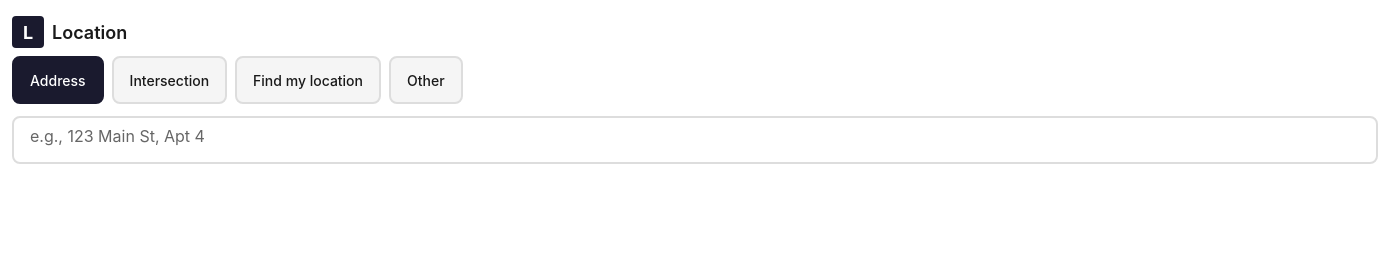
Test: LocationSection › Mode Selection › switches to intersection mode when clicked
The image size is (1390, 274).
Click the button "Intersection".
click(169, 80)  # box [112,56,227,104]
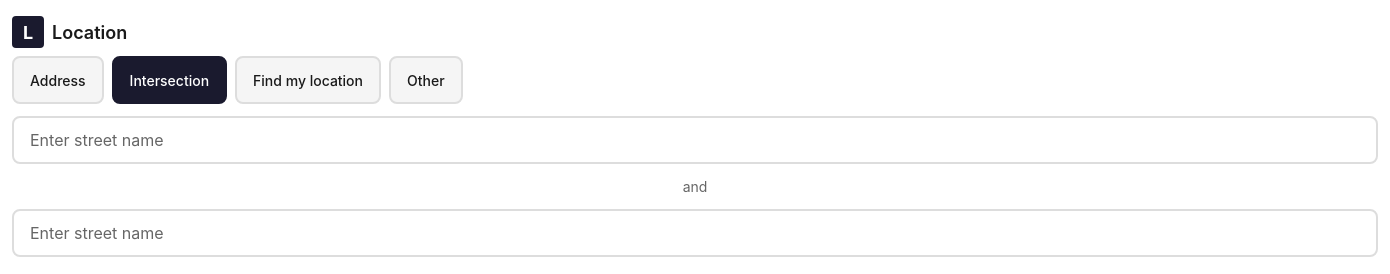
Expected: the number of fields with placeholder "Enter street name" is 2, [12,116,1378,164]; [12,209,1378,257]
